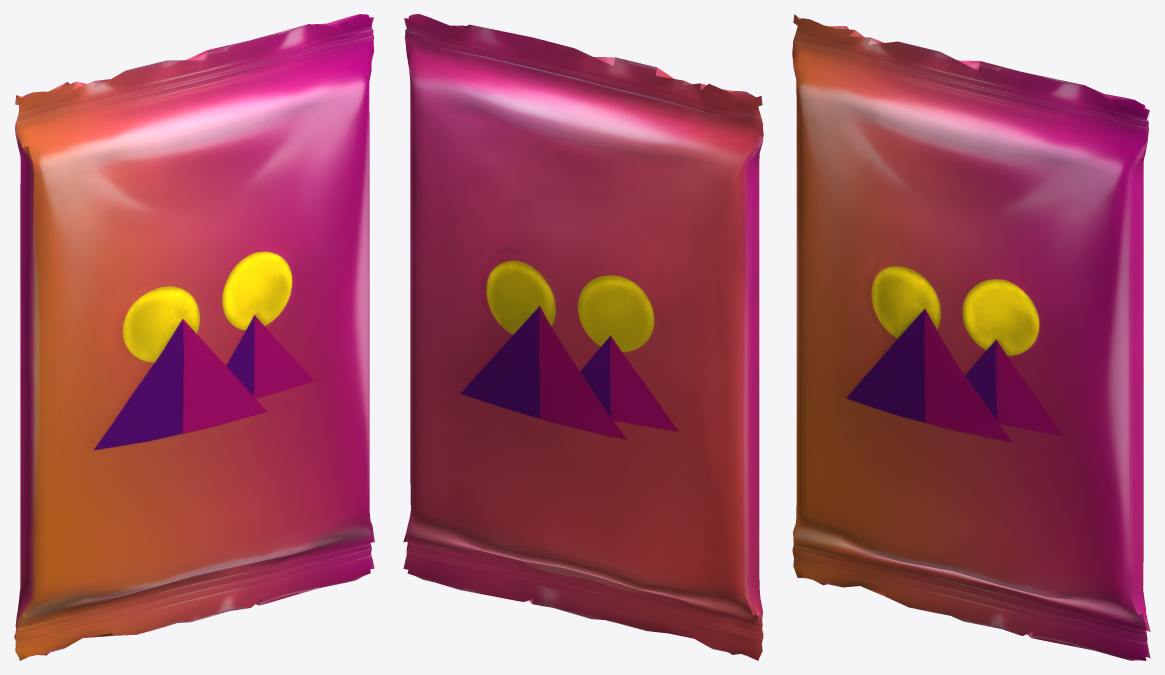
Rendered from foilpack00.glb.
3 renders of one model, left to right at view 1: azimuth 30°, elevation 25°; view 2: azimuth 150°, elevation 25°; view 3: azimuth 330°, elevation 25°, orthographic.
Parts seen in each view (by area): view 1: Mesh0; view 2: Mesh0; view 3: Mesh0.
Boxes of the visible parts, bbox=[...] form: Mesh0: bbox=[14, 14, 374, 660]; Mesh0: bbox=[403, 14, 763, 660]; Mesh0: bbox=[792, 14, 1150, 660].
Bounding box in the file's own units: 1.26 × 1.9 × 0.2277.
Materials: 1 (1 with a texture image).
